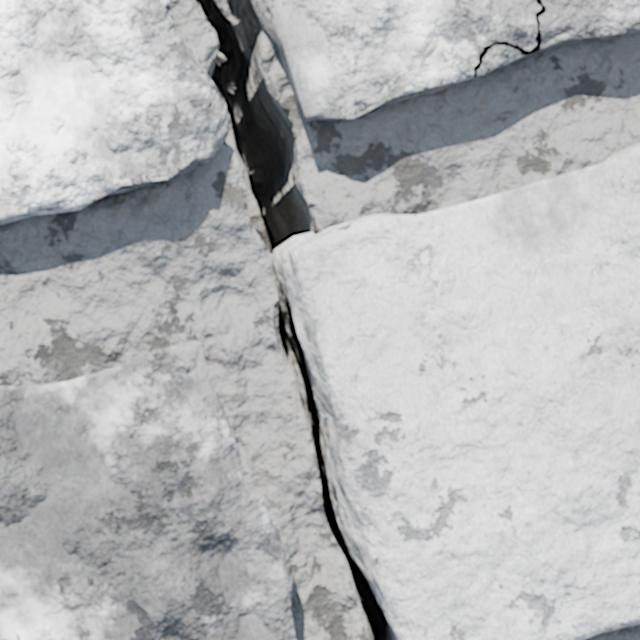crack: (0, 0, 639, 639), (0, 340, 295, 639)
